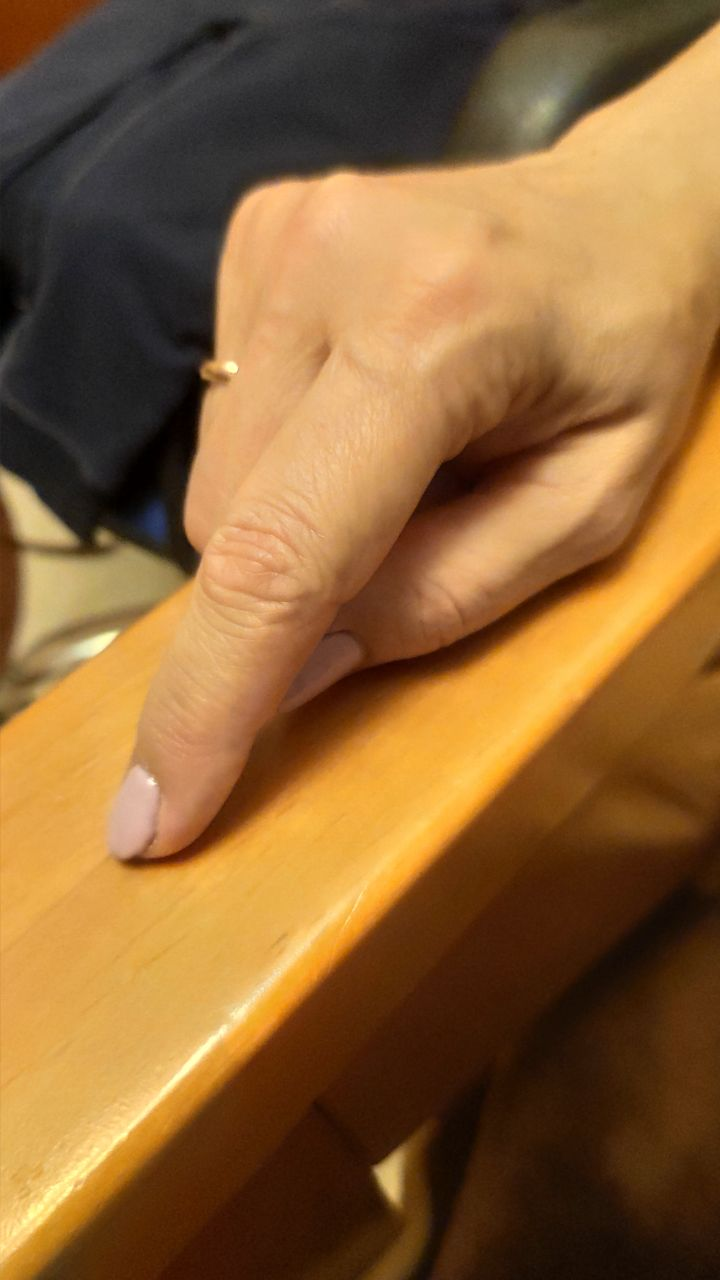finger: (108, 737, 218, 855)
